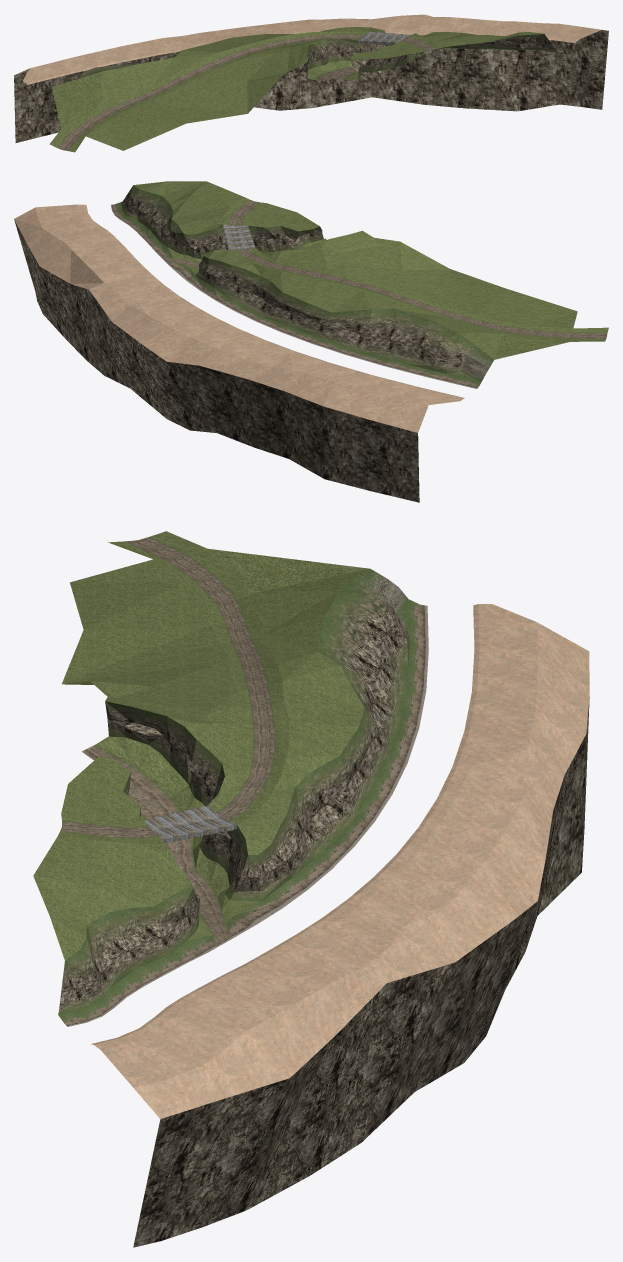
The model's file is ce_ground08.obj.
3 views of the same model, one above another, from view 1: azimuth 30°, elevation 25°; view 2: azimuth 150°, elevation 25°; view 3: azimuth 270°, elevation 25° (orthographic). The views are drawn at different scales.
Parts seen in each view (by area): view 1: CE_ground08; view 2: CE_ground08; view 3: CE_ground08.
Part boxes in pixels (box(x1,y1,x2,y2)): CE_ground08: box(14, 14, 608, 152); CE_ground08: box(14, 181, 608, 502); CE_ground08: box(33, 531, 589, 1247).
Bounding box in the file's own units: 339 × 78.48 × 147.
